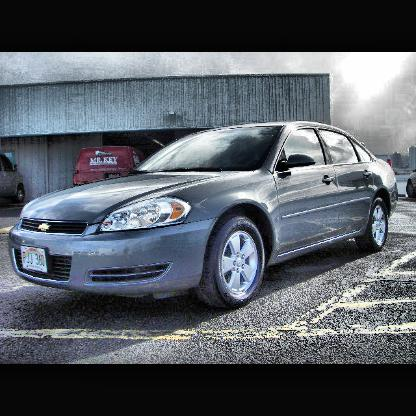Chevrolet Impala Sedan 2007: (10, 123, 399, 303)
